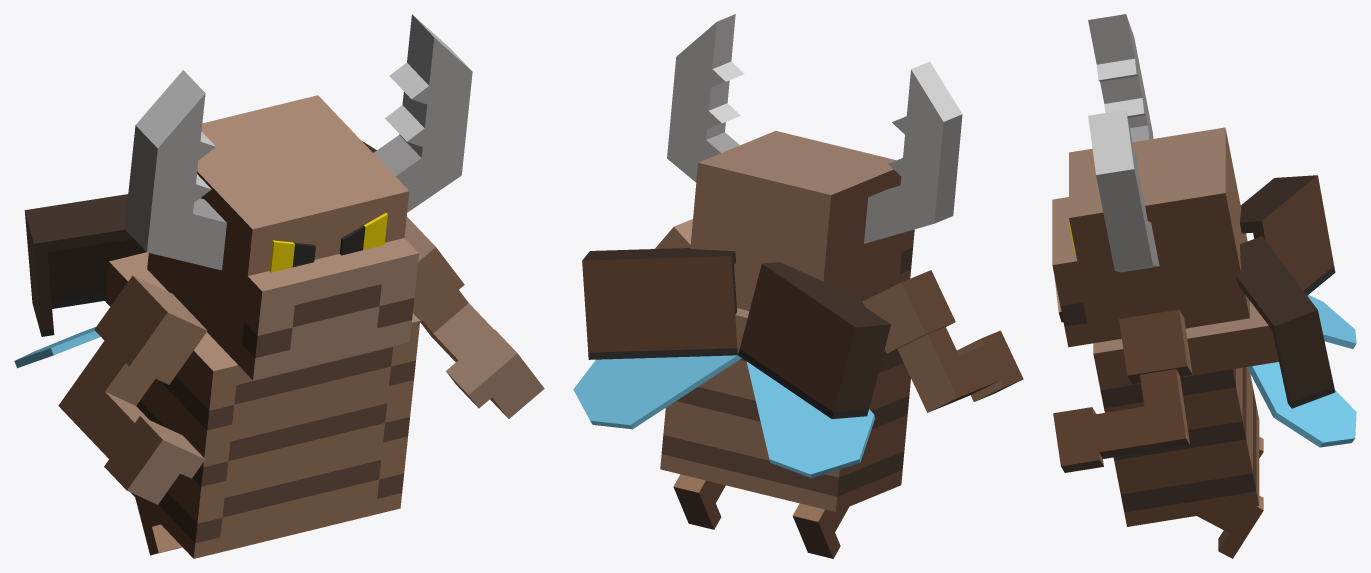
File: Ch_206@Down.FBX
The picture shows the model from 3 angles, left to right: view 1: azimuth 30°, elevation 25°; view 2: azimuth 150°, elevation 25°; view 3: azimuth 270°, elevation 25°; orthographic projection. The views are drawn at different scales.
Parts seen in each view (by area): view 1: Ch_206_Head, Ch_206, Ch_206_Arm_L, Ch_206_Jaw_L, Ch_206_Jaw_R, Ch_206_Arm_R, Ch_206_WingCover_R, Ch_206_Eye_01, Ch_206_Leg_L, Ch_206_Wing_R; view 2: Ch_206_Head, Ch_206, Ch_206_WingCover_L, Ch_206_WingCover_R, Ch_206_Arm_L, Ch_206_Jaw_L, Ch_206_Jaw_R, Ch_206_Wing_R, Ch_206_Wing_L, Ch_206_Leg_L, Ch_206_Leg_R, Ch_206_Arm_R; view 3: Ch_206_Head, Ch_206, Ch_206_Arm_R, Ch_206_WingCover_L, Ch_206_WingCover_R, Ch_206_Jaw_R, Ch_206_Jaw_L, Ch_206_Wing_L, Ch_206_Leg_R, Ch_206_Wing_R.
Boxes of the visible parts, x1,y1,x2,y2 form: Ch_206_Head: (147,95,418,380); Ch_206: (105,252,419,558); Ch_206_Arm_L: (58,275,207,504); Ch_206_Jaw_L: (124,70,226,270); Ch_206_Jaw_R: (373,14,472,212); Ch_206_Arm_R: (404,216,544,418); Ch_206_WingCover_R: (24,194,146,336); Ch_206_Eye_01: (269,213,387,272); Ch_206_Leg_L: (135,498,182,555); Ch_206_Wing_R: (14,327,100,368); Ch_206_Head: (690,131,914,310); Ch_206: (660,308,910,511); Ch_206_WingCover_L: (582,248,737,359); Ch_206_WingCover_R: (738,262,890,418); Ch_206_Arm_L: (862,270,1023,412); Ch_206_Jaw_L: (864,61,962,243); Ch_206_Jaw_R: (667,14,744,182); Ch_206_Wing_R: (746,361,875,478); Ch_206_Wing_L: (573,355,741,429); Ch_206_Leg_L: (792,503,848,558); Ch_206_Leg_R: (673,474,725,529); Ch_206_Arm_R: (655,219,692,248); Ch_206_Head: (1052,127,1249,347); Ch_206: (1093,301,1278,526); Ch_206_Arm_R: (1053,309,1192,472); Ch_206_WingCover_L: (1236,236,1335,408); Ch_206_WingCover_R: (1239,175,1335,295); Ch_206_Jaw_R: (1088,109,1159,272); Ch_206_Jaw_L: (1088,14,1153,141); Ch_206_Wing_L: (1247,362,1356,447); Ch_206_Leg_R: (1197,495,1263,558); Ch_206_Wing_R: (1307,295,1356,348).
Bounding box in the file's own units: 10.91 × 13.43 × 8.02.
